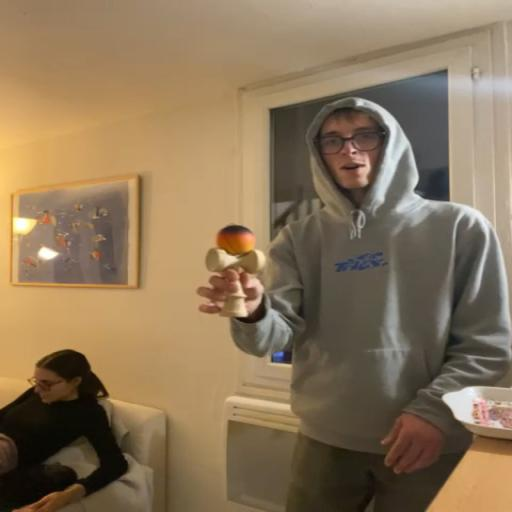kendama_ball: (216, 225, 256, 256)
